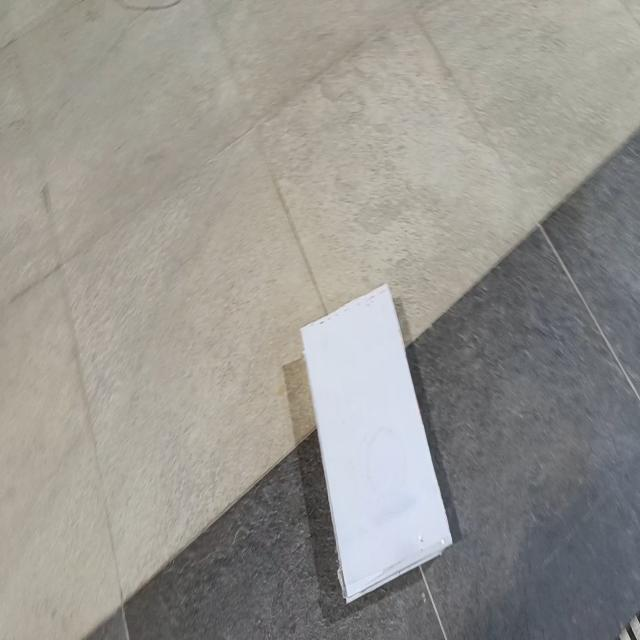Cuboid: (299, 281, 453, 604)
